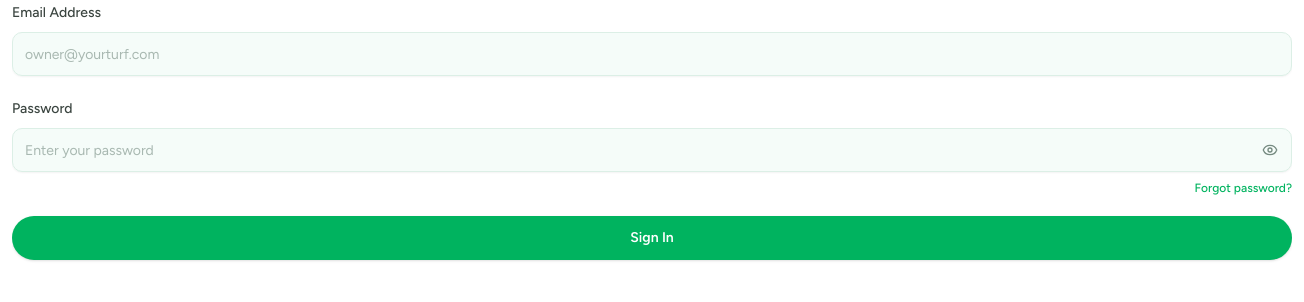
Scenario: LoginForm › requires an email address
Click the field labelled "Email Address".
click(652, 54)  # box x1=12 y1=32 x2=1292 y2=76
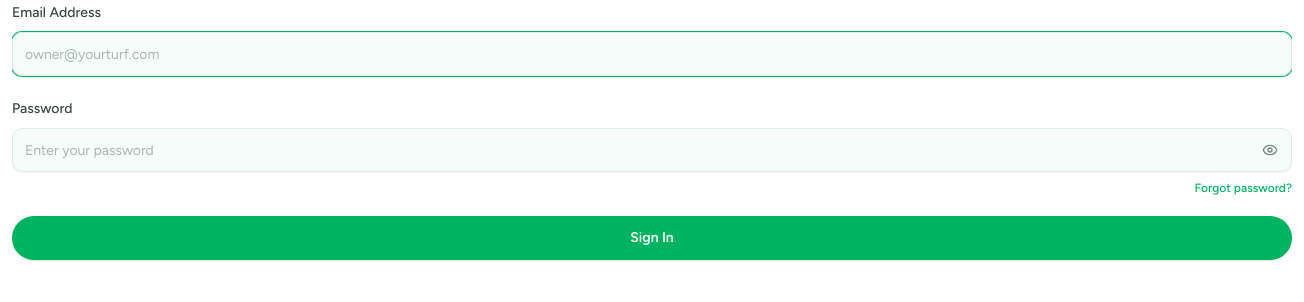
Press Tab
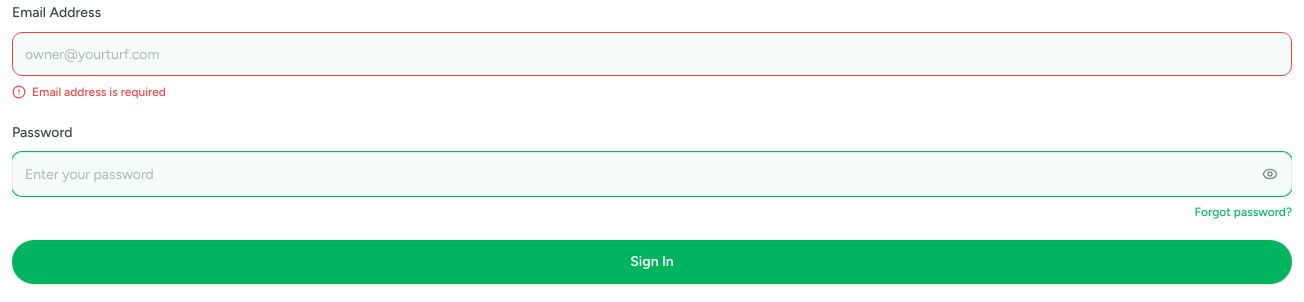
Expected: the text "Email address is required" is shown, x1=32 y1=84 x2=166 y2=100
